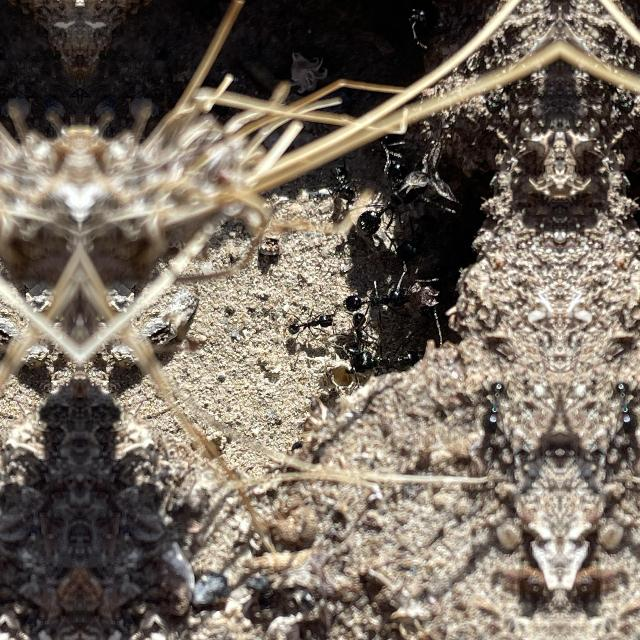Messor: (356, 170, 424, 240), (470, 374, 514, 438), (348, 334, 418, 371), (606, 373, 640, 438), (280, 302, 336, 340), (334, 280, 404, 310), (338, 307, 378, 355)
